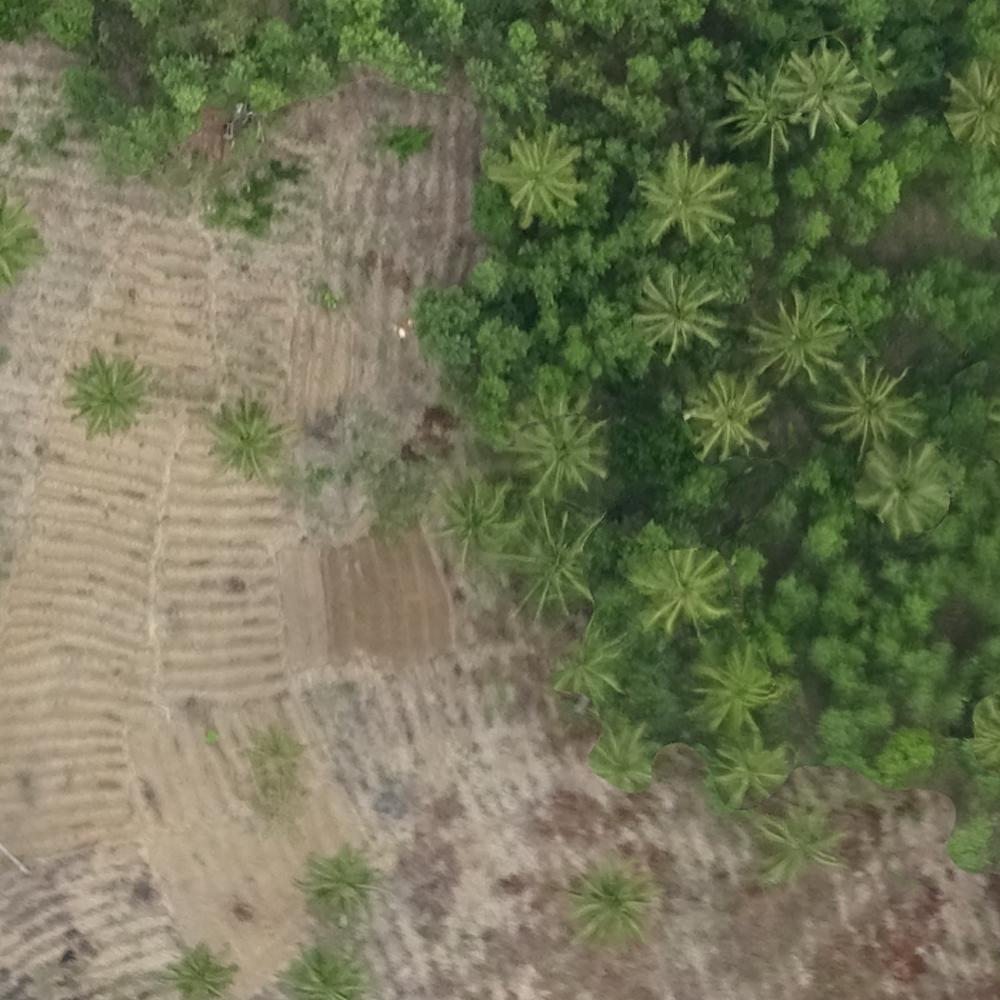Palm: (495, 500, 600, 611), (504, 396, 608, 492), (745, 286, 849, 380), (816, 364, 921, 454), (642, 144, 732, 239), (851, 448, 951, 533), (750, 807, 849, 889), (428, 475, 518, 565), (561, 863, 662, 942), (786, 43, 871, 136), (684, 371, 775, 457), (635, 548, 730, 630), (685, 647, 780, 728), (495, 135, 583, 222), (640, 268, 726, 355), (720, 63, 808, 148), (204, 397, 292, 480), (66, 349, 147, 435), (300, 844, 383, 922), (709, 738, 793, 814), (559, 626, 635, 706), (276, 942, 359, 1000), (587, 721, 659, 786), (165, 942, 230, 1000)
